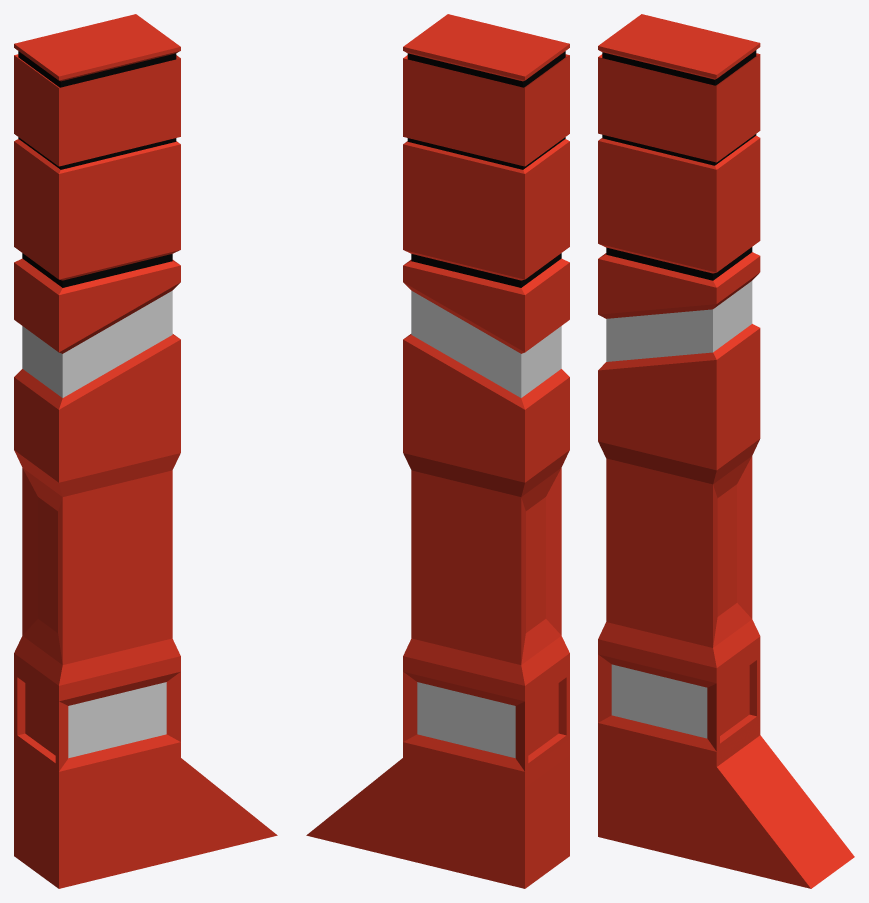
3 renders of one model, left to right at view 1: azimuth 30°, elevation 25°; view 2: azimuth 150°, elevation 25°; view 3: azimuth 330°, elevation 25°, orthographic. The views are drawn at different scales.
Parts seen in each view (by area): view 1: FACE-F.001; view 2: FACE-F.001; view 3: FACE-F.001.
Part boxes in pixels (bbox=[...]): FACE-F.001: bbox=[14, 14, 277, 888]; FACE-F.001: bbox=[306, 14, 569, 888]; FACE-F.001: bbox=[598, 14, 854, 888].
Size of the model in its own units: 1.13 by 4 by 0.4.
